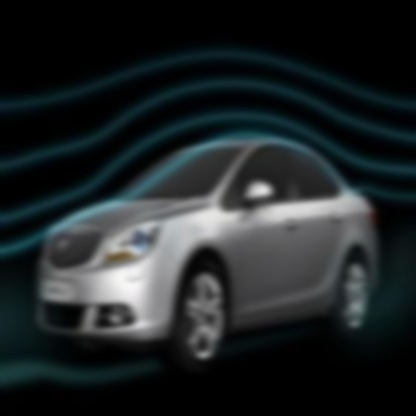Vehicle: (36, 134, 379, 375)
